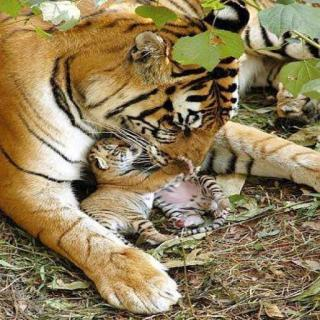Tiger: (0, 7, 256, 280), (80, 124, 212, 249)
